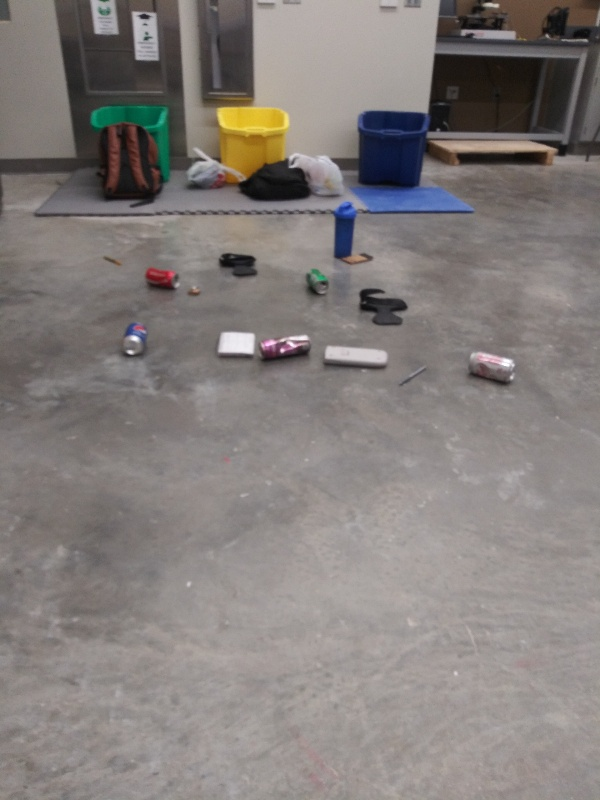can: (466, 347, 520, 387), (254, 332, 314, 362), (117, 320, 153, 357), (142, 264, 182, 292), (300, 265, 330, 297)
